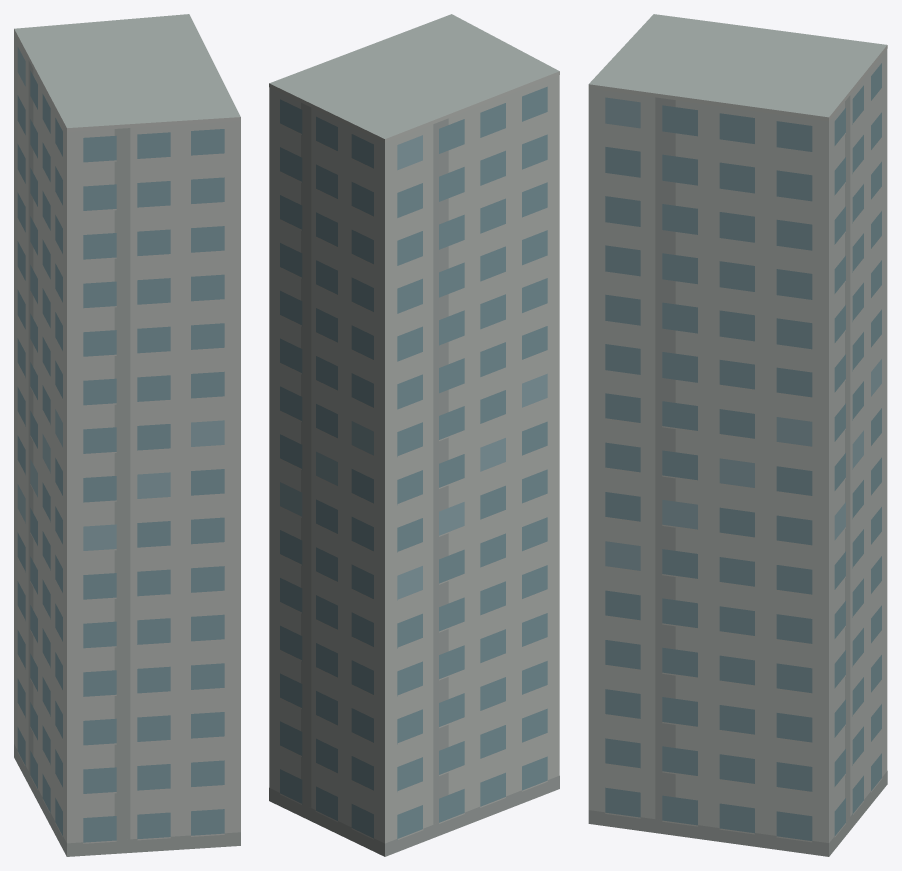
File: survey-upis-32875032.glb
3 views of the same model, side by side, from view 1: azimuth 30°, elevation 25°; view 2: azimuth 150°, elevation 25°; view 3: azimuth 270°, elevation 25° (orthographic). The views are drawn at different scales.
Parts seen in each view (by area): view 1: survey-upis-32875032.tmp; view 2: survey-upis-32875032.tmp; view 3: survey-upis-32875032.tmp.
Boxes of the visible parts, bbox=[...] form: survey-upis-32875032.tmp: bbox=[14, 14, 240, 856]; survey-upis-32875032.tmp: bbox=[269, 14, 559, 856]; survey-upis-32875032.tmp: bbox=[588, 14, 887, 856].
Size of the model in its own units: 13.72 by 45.75 by 16.76.
